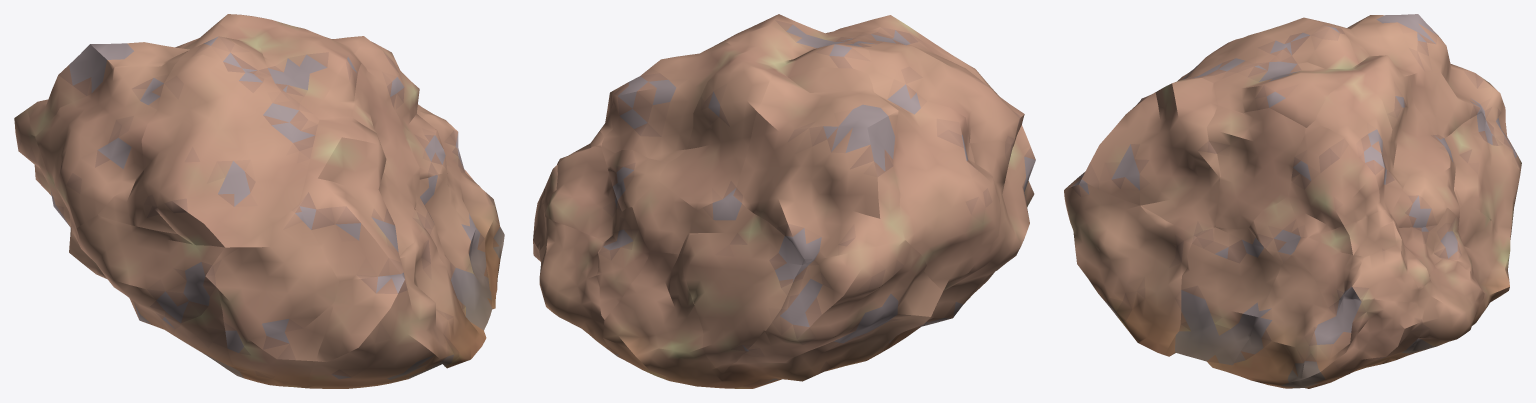
The model's file is iron_rock_v7.glb.
The picture shows the model from 3 angles, left to right: view 1: azimuth 30°, elevation 25°; view 2: azimuth 150°, elevation 25°; view 3: azimuth 270°, elevation 25°; orthographic projection. The views are drawn at different scales.
Visible parts, largest first — view 1: Chunk_20, Chunk_02, Chunk_07, Chunk_15, Chunk_17, Chunk_04, Chunk_28, Chunk_10, Chunk_22, Chunk_23, Chunk_05, Chunk_26 (+7 smaller); view 2: Chunk_22, Chunk_01, Chunk_17, Chunk_14, Chunk_06, Chunk_27, Chunk_29, Chunk_20, Chunk_03, Chunk_04, Chunk_16, Chunk_28 (+8 smaller); view 3: Chunk_15, Chunk_02, Chunk_10, Chunk_22, Chunk_23, Chunk_00, Chunk_26, Chunk_05, Chunk_14, Chunk_28, Chunk_29, Chunk_27 (+13 smaller).
Boxes of the visible parts, x1,y1,x2,y2 form: Chunk_20: [141, 54, 319, 265]; Chunk_02: [306, 228, 484, 388]; Chunk_07: [213, 205, 338, 388]; Chunk_15: [299, 116, 424, 281]; Chunk_17: [35, 58, 179, 255]; Chunk_04: [76, 215, 244, 378]; Chunk_28: [256, 26, 361, 118]; Chunk_10: [415, 173, 495, 340]; Chunk_22: [27, 24, 237, 135]; Chunk_23: [351, 63, 419, 208]; Chunk_05: [446, 165, 503, 299]; Chunk_26: [353, 39, 435, 135]; Chunk_22: [733, 67, 903, 259]; Chunk_01: [720, 239, 942, 388]; Chunk_17: [868, 72, 1000, 290]; Chunk_14: [682, 196, 803, 374]; Chunk_06: [603, 251, 722, 388]; Chunk_27: [659, 52, 777, 210]; Chunk_29: [602, 43, 742, 162]; Chunk_20: [847, 27, 1030, 154]; Chunk_03: [539, 217, 613, 353]; Chunk_04: [864, 147, 1035, 361]; Chunk_16: [544, 146, 621, 242]; Chunk_28: [714, 14, 864, 64]; Chunk_15: [1082, 78, 1220, 236]; Chunk_02: [1064, 171, 1196, 355]; Chunk_10: [1165, 227, 1281, 372]; Chunk_22: [1338, 14, 1492, 139]; Chunk_23: [1206, 105, 1306, 229]; Chunk_00: [1301, 299, 1422, 388]; Chunk_26: [1287, 120, 1385, 237]; Chunk_05: [1228, 255, 1327, 388]; Chunk_14: [1440, 113, 1519, 239]; Chunk_28: [1214, 61, 1352, 127]; Chunk_29: [1316, 75, 1409, 215]; Chunk_27: [1352, 55, 1451, 180].
Size of the model in its own units: 3.96 by 2.53 by 4.11.
